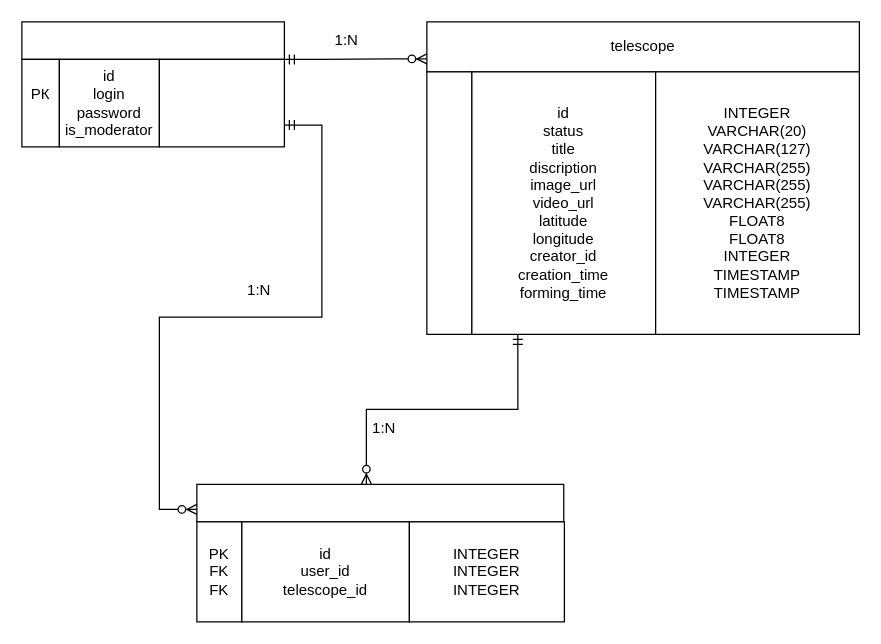
Some shapes in this 881 by 644 pixel diagram are drawn without their labels. The shapes that lost their labels are listed below. From the top down, each one's box as (x1, y1, x2, y2) in pixels, then its label:
(21, 21, 284, 59): user
(158, 58, 284, 147): INTEGER VARCHAR(64) VARCHAR(64) BOOLEAN
(426, 71, 472, 334): PK FK
(196, 483, 564, 522): telescope_like
